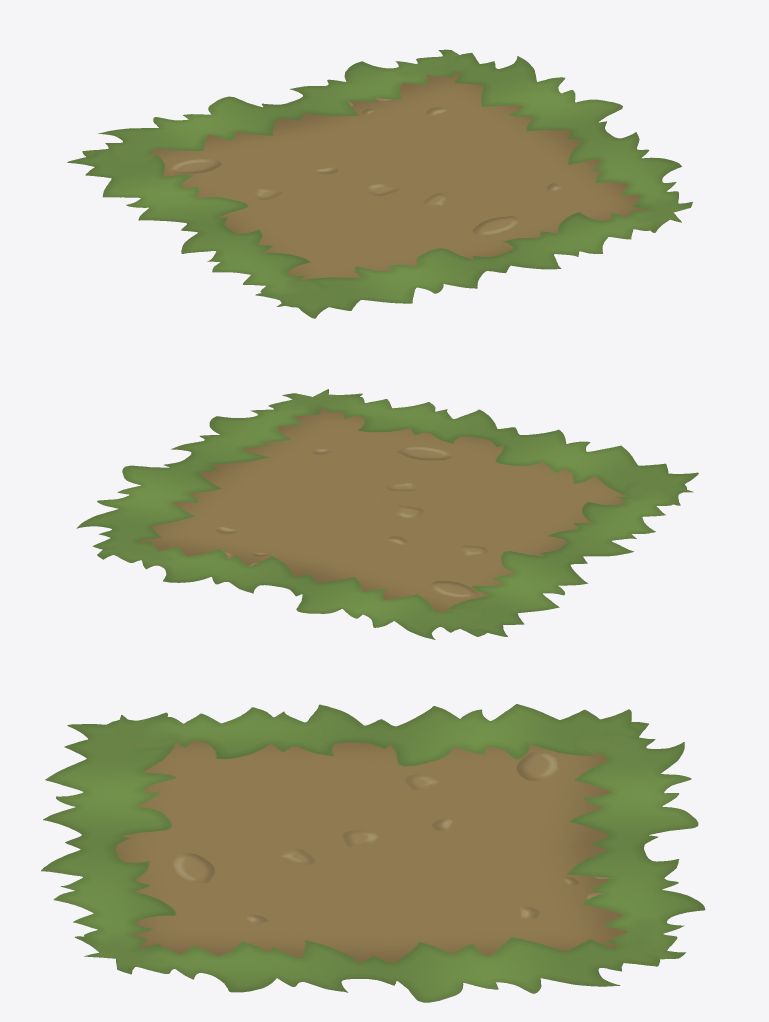
The model's file is RoadPatch.fbx.
The picture shows the model from 3 angles, top to bottom: view 1: azimuth 30°, elevation 25°; view 2: azimuth 150°, elevation 25°; view 3: azimuth 270°, elevation 25°; orthographic projection. The views are drawn at different scales.
Parts seen in each view (by area): view 1: ModelRoadPatch; view 2: ModelRoadPatch; view 3: ModelRoadPatch.
Part boxes in pixels (x1,y1,x2,y2): ModelRoadPatch: (67, 49, 692, 318); ModelRoadPatch: (76, 389, 698, 639); ModelRoadPatch: (41, 704, 705, 1002).
Size of the model in its own units: 841 by 0.000167 by 839.
1 material, 1 textured.
